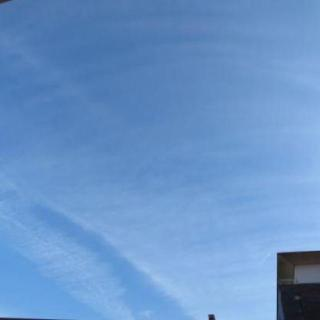Contrails: (0, 0, 274, 319)
